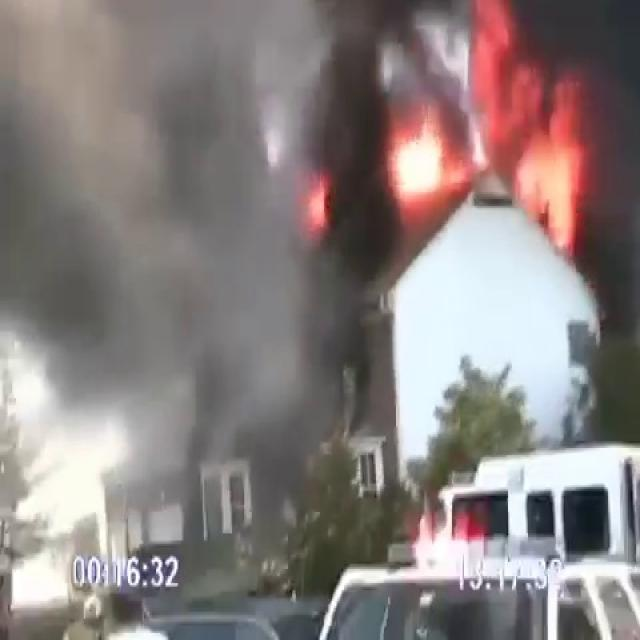Smoke: (0, 1, 383, 500), (8, 0, 634, 277)
